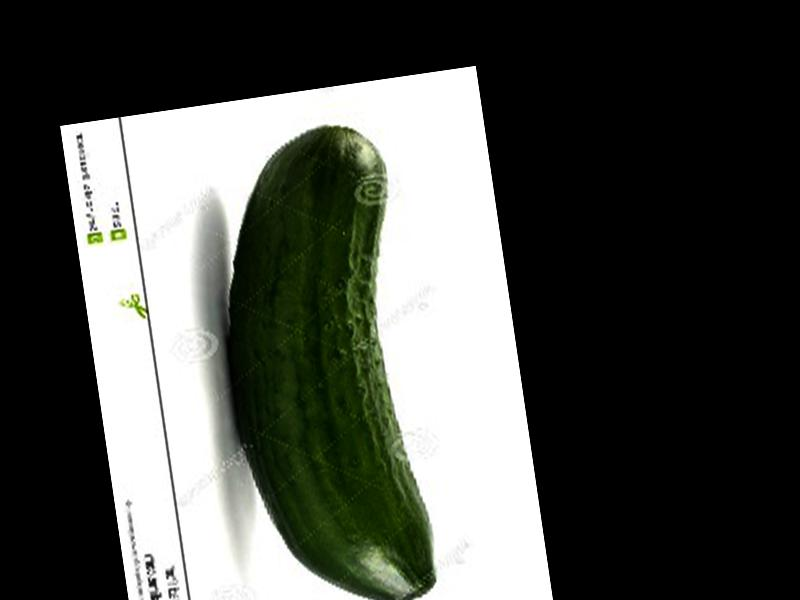Cucumber: (197, 120, 441, 600)
